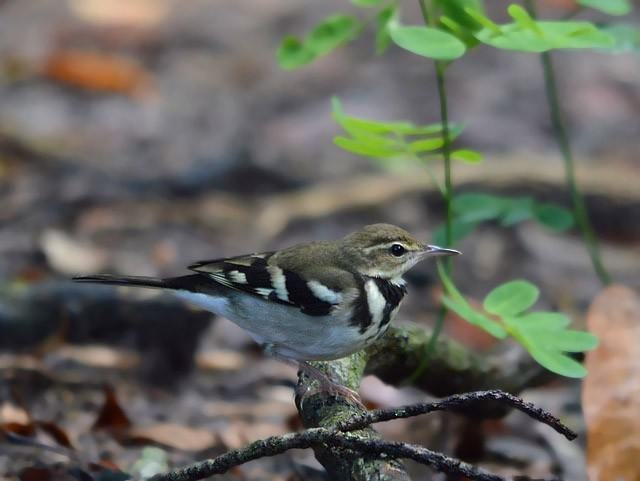wagtail: (150, 204, 468, 379)
